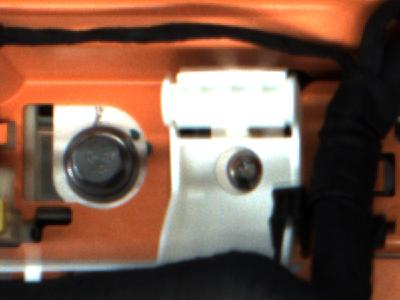nut_b: (56, 122, 137, 203)
